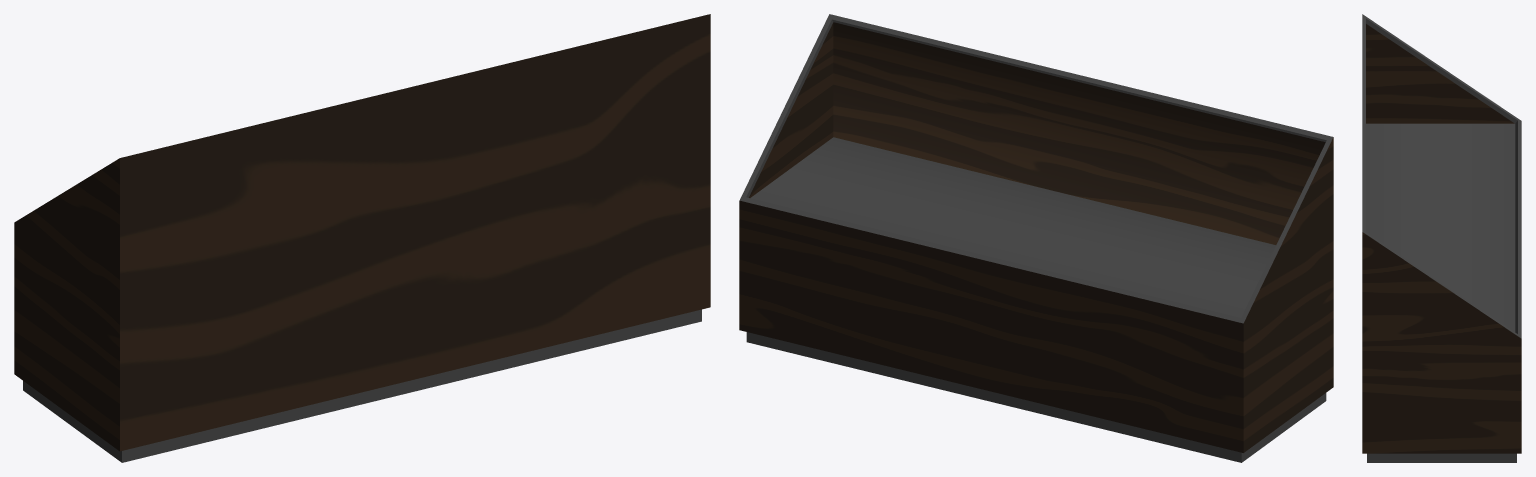
The model's file is fruit stand 2.FBX.
The picture shows the model from 3 angles, left to right: view 1: azimuth 30°, elevation 25°; view 2: azimuth 150°, elevation 25°; view 3: azimuth 270°, elevation 25°; orthographic projection. The views are drawn at different scales.
Parts seen in each view (by area): view 1: Box008; view 2: Box008; view 3: Box008.
Boxes of the visible parts, x1,y1,x2,y2 form: Box008: (14, 14, 710, 462); Box008: (739, 14, 1333, 462); Box008: (1362, 14, 1521, 462).
Size of the model in its own units: 55.43 by 27.65 by 17.13.
